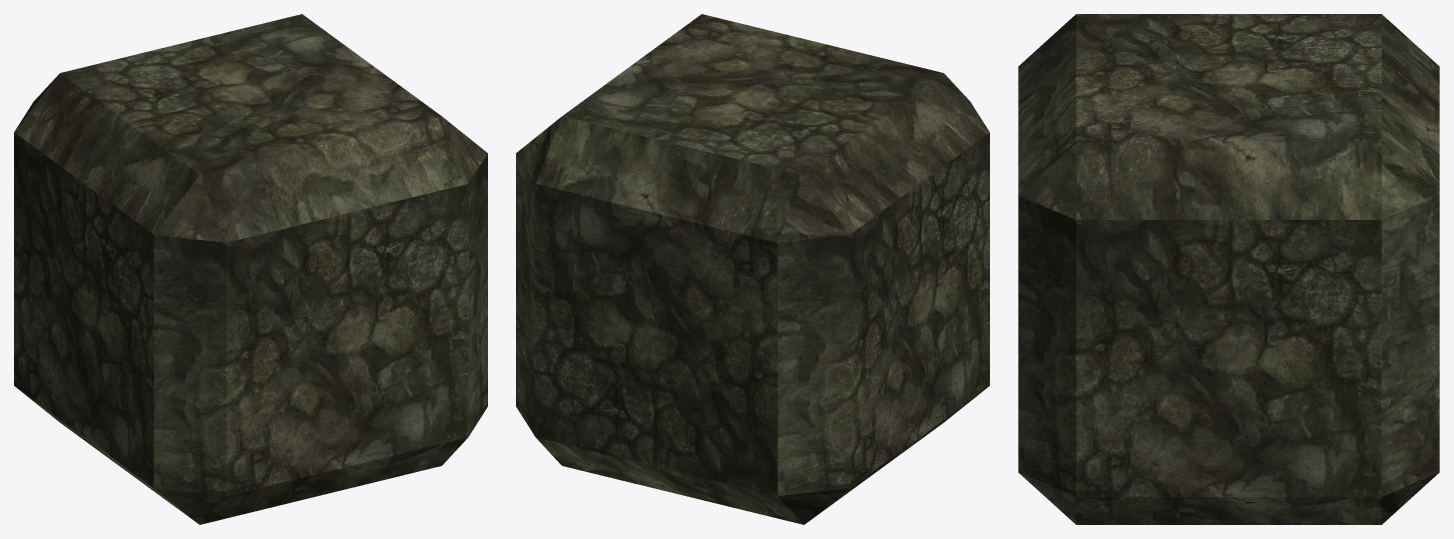
File: stage5_Breakable.gltf
The picture shows the model from 3 angles, left to right: view 1: azimuth 30°, elevation 25°; view 2: azimuth 150°, elevation 25°; view 3: azimuth 270°, elevation 25°; orthographic projection. The views are drawn at different scales.
Parts seen in each view (by area): view 1: Cube; view 2: Cube; view 3: Cube.
Boxes of the visible parts, box(x1,y1,x2,y2) form: Cube: box(14, 14, 487, 524); Cube: box(516, 14, 989, 524); Cube: box(1018, 14, 1439, 524).
Size of the model in its own units: 1.85 by 1.85 by 1.85.
1 material, 1 textured.
